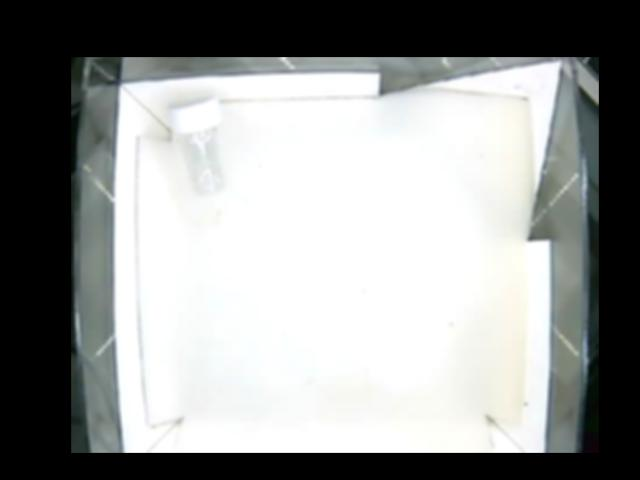Bottle: (168, 96, 227, 198)
